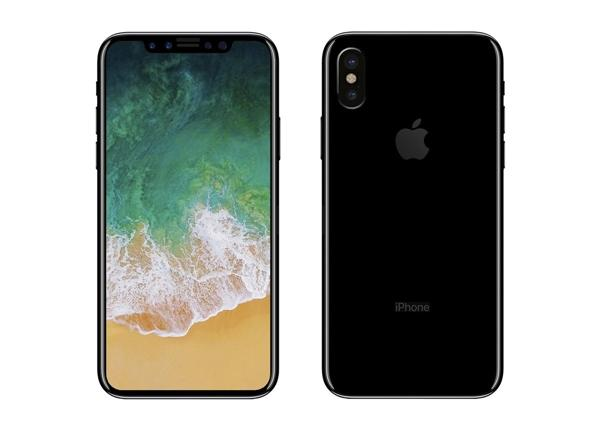phone: (93, 33, 280, 398), (321, 32, 506, 397)
